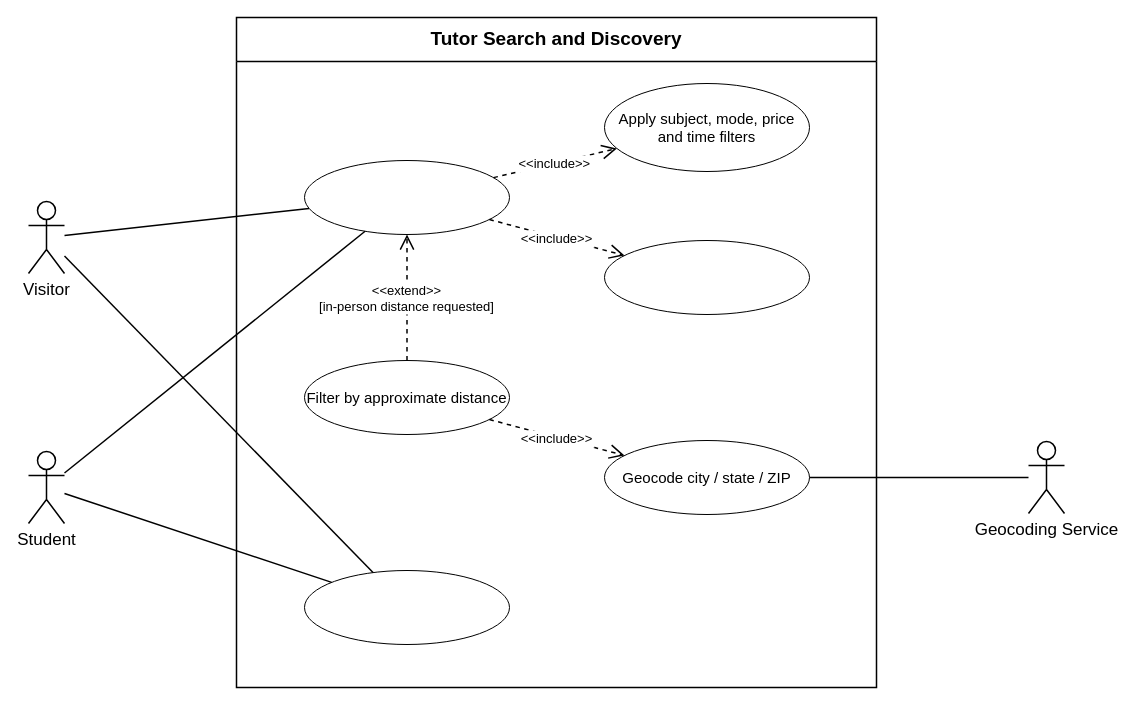
This 1136x706 diagram has some shape labels left out. The shapes that lost their labels are listed below. From the top down, each one's centre as x and y in pixels, then its label:
the point at 407,197: Search published tutors
the point at 707,277: Return paginated public tutor results
the point at 407,607: View public tutor profile
